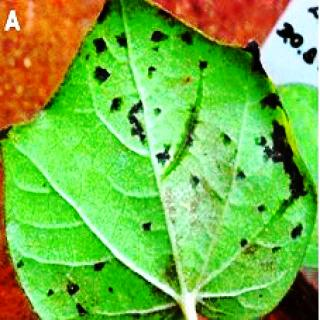blight: (100, 25, 320, 246)
